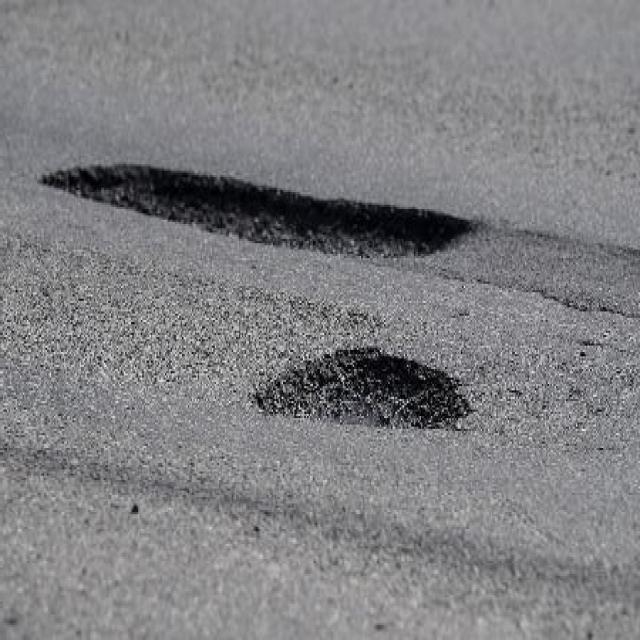Pothole: (38, 161, 481, 264), (252, 347, 475, 439)
